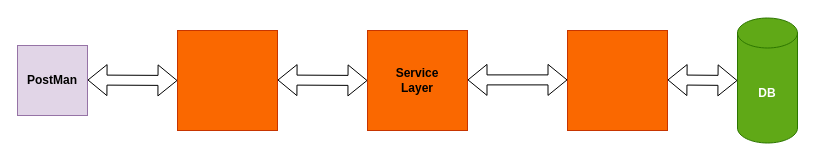
This 815x160 diagram has some shape labels left out. Each missing label, with the box of its shape:
Controller Layer: (176, 30, 278, 130)
Repository Layer: (566, 30, 668, 130)
